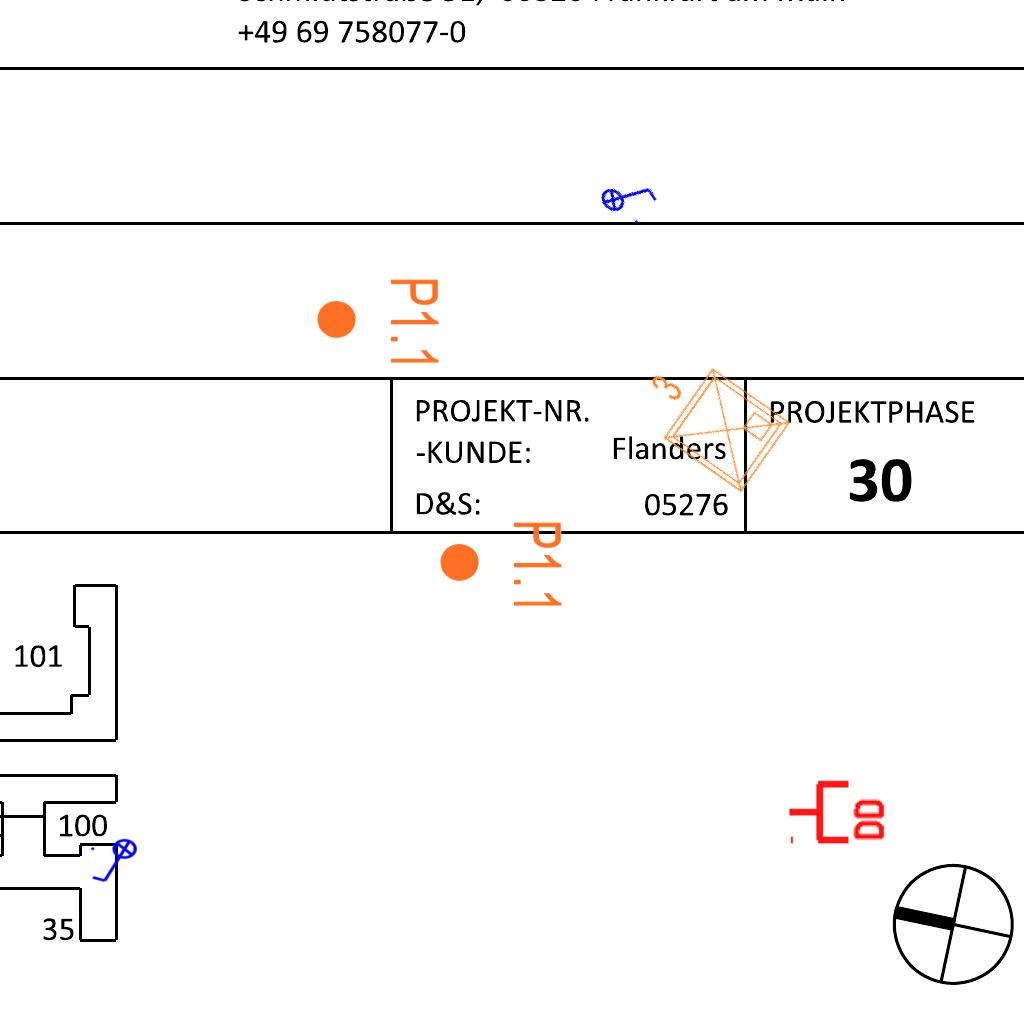Ausschalter_beleuchtet: (591, 159, 665, 233), (88, 838, 144, 886)
Datenanschluss_zweifach: (786, 776, 889, 845)
Downlight_LED_Einbauleuchten_Flur_2: (437, 519, 565, 612), (314, 276, 442, 369)
Einbaudownlights_LED_Konferenzraeume: (617, 334, 801, 506)
